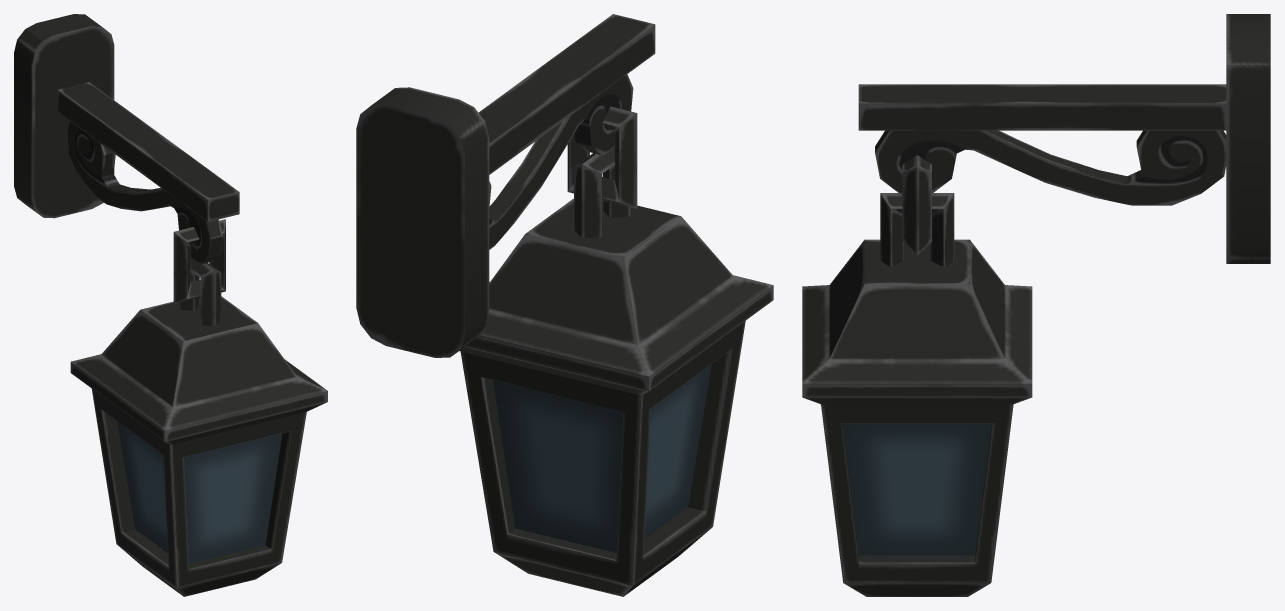
The model's file is Lamp.fbx.
3 views of the same model, side by side, from view 1: azimuth 30°, elevation 25°; view 2: azimuth 150°, elevation 25°; view 3: azimuth 270°, elevation 25° (orthographic). The views are drawn at different scales.
Visible parts, largest first — view 1: Lamp_01; view 2: Lamp_01; view 3: Lamp_01.
Boxes of the visible parts, box(x1,y1,x2,y2) form: Lamp_01: box(14, 14, 327, 596); Lamp_01: box(356, 14, 773, 596); Lamp_01: box(802, 14, 1270, 596).
Size of the model in its own units: 22.84 by 60.01 by 46.51.
